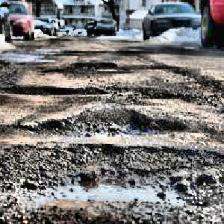pothole: (0, 143, 224, 213), (17, 106, 188, 138), (1, 83, 109, 95), (70, 60, 116, 71)
